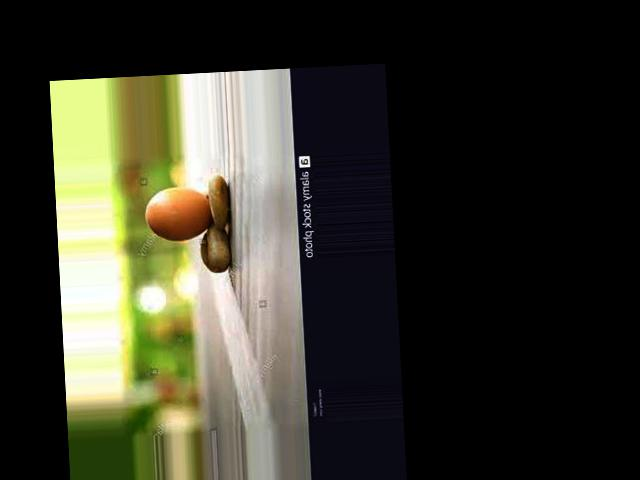egg: (145, 185, 213, 243)
